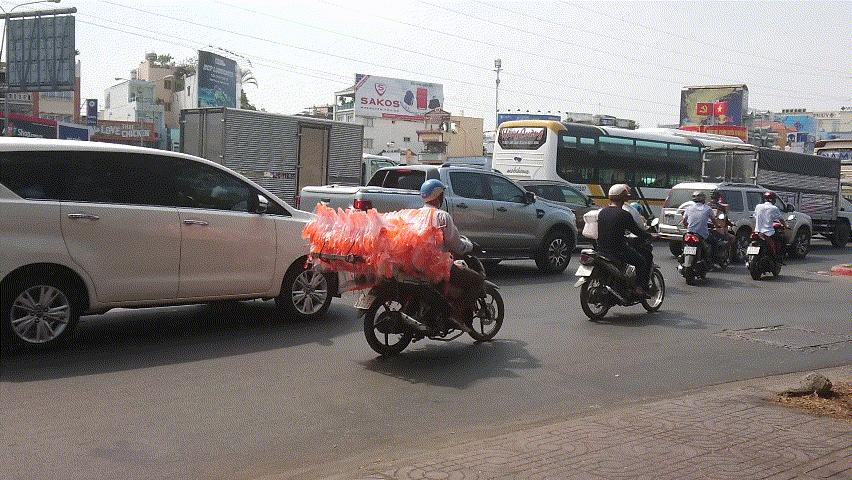driver: (353, 178, 504, 358), (573, 184, 665, 322), (678, 190, 728, 285), (746, 191, 796, 280)
helmet: (419, 179, 449, 210), (607, 184, 633, 207), (691, 189, 706, 204), (763, 190, 777, 205)
